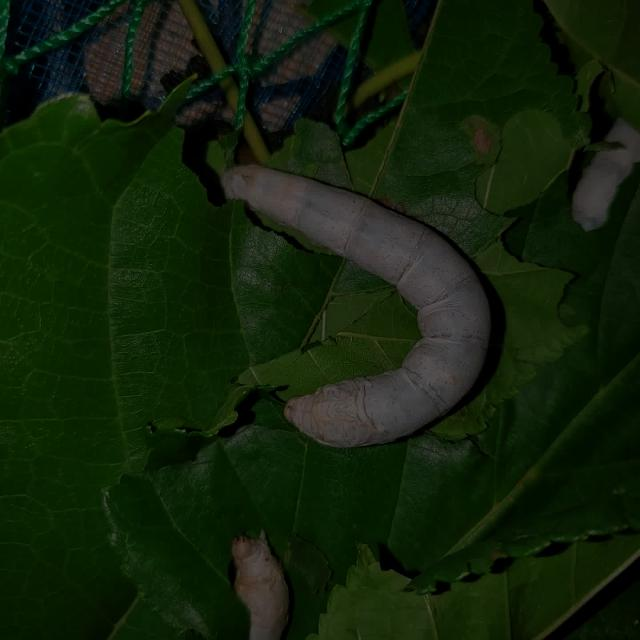Healthy: (187, 132, 516, 451)
